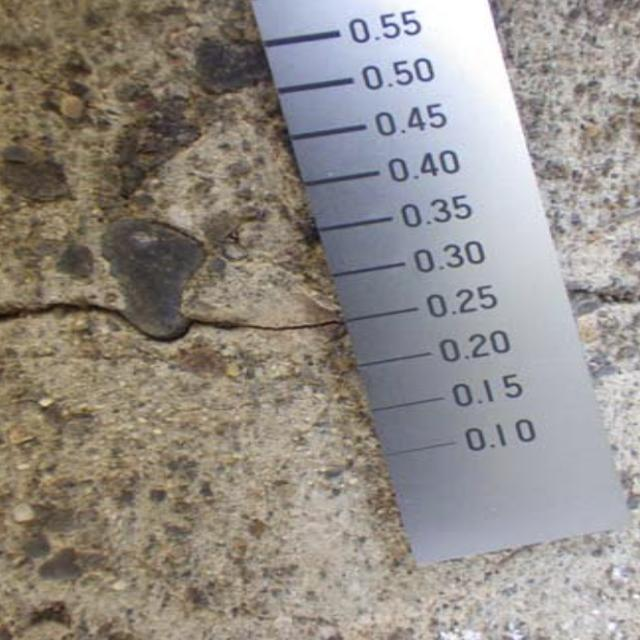crack: (4, 277, 347, 374)
